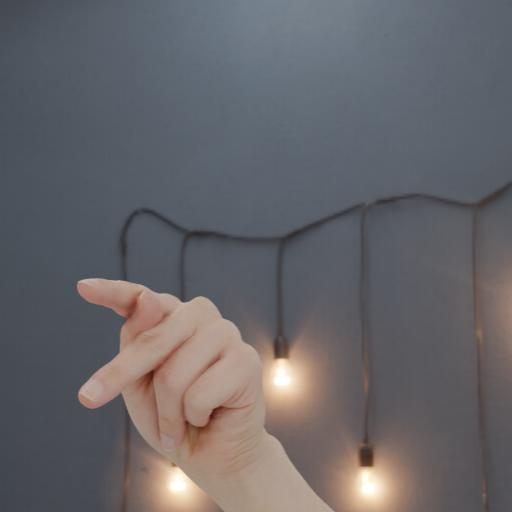P: (64, 257, 275, 480)
